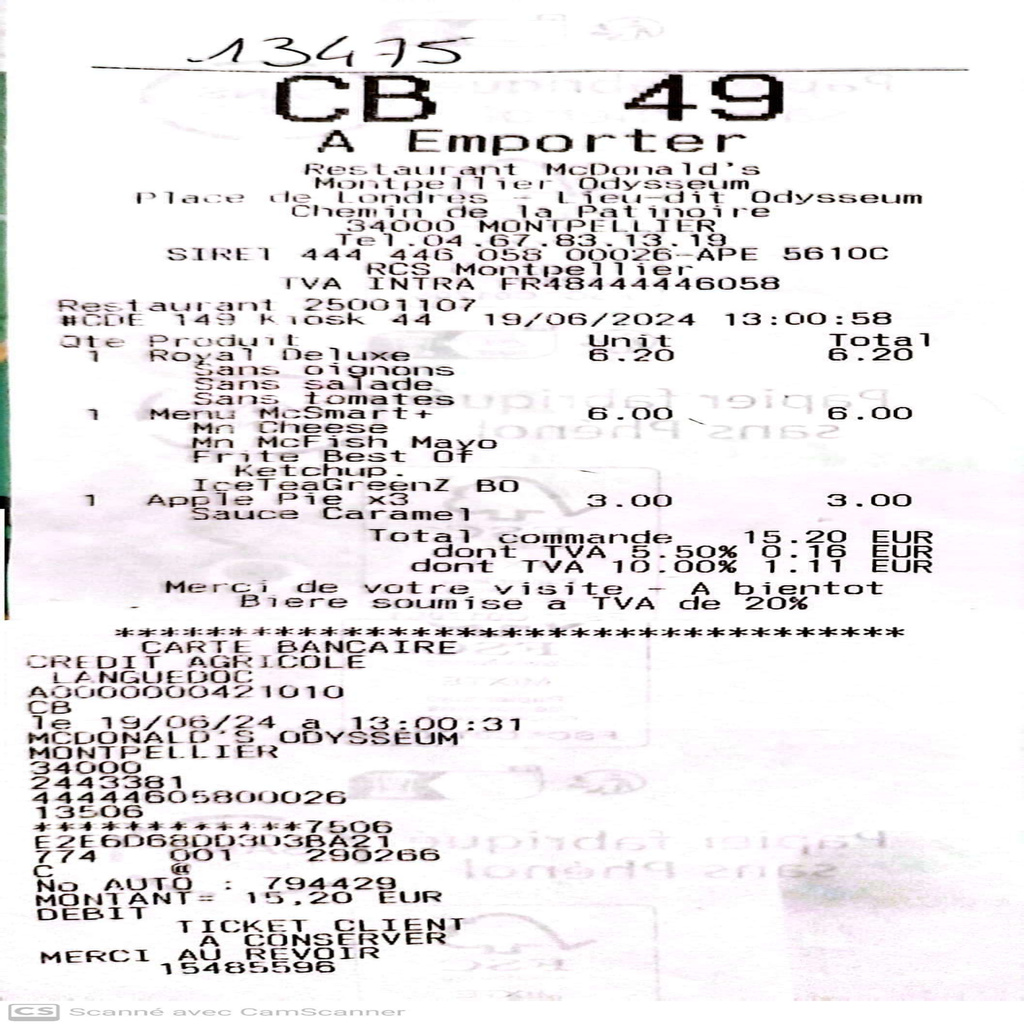recipt: (4, 2, 1022, 1020)
